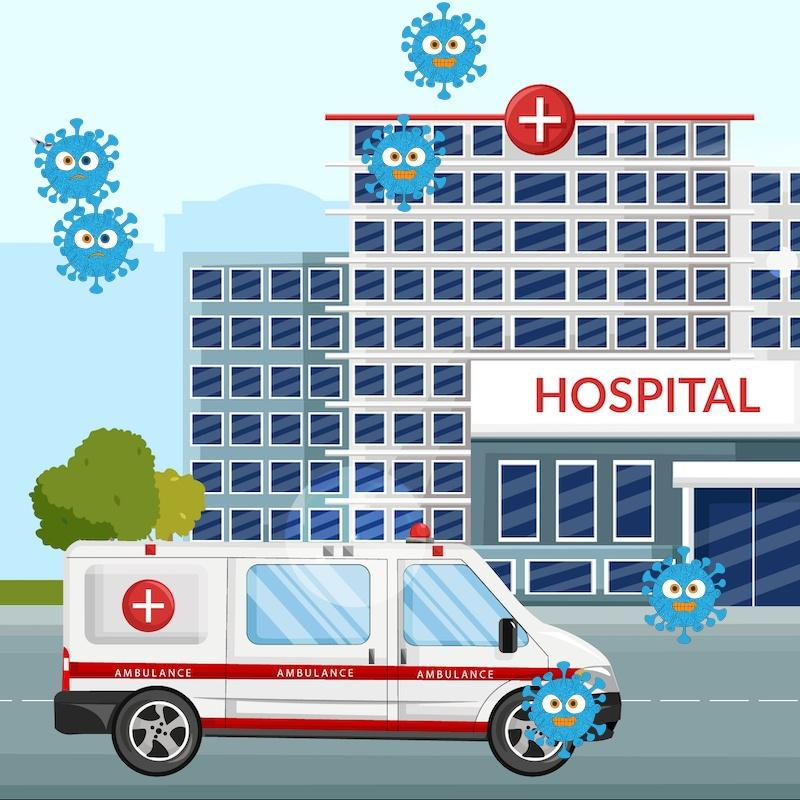corona1: (391, 5, 490, 105), (641, 541, 729, 645), (521, 660, 607, 759), (362, 118, 447, 210)
corona2: (32, 116, 128, 206), (49, 205, 146, 293)
